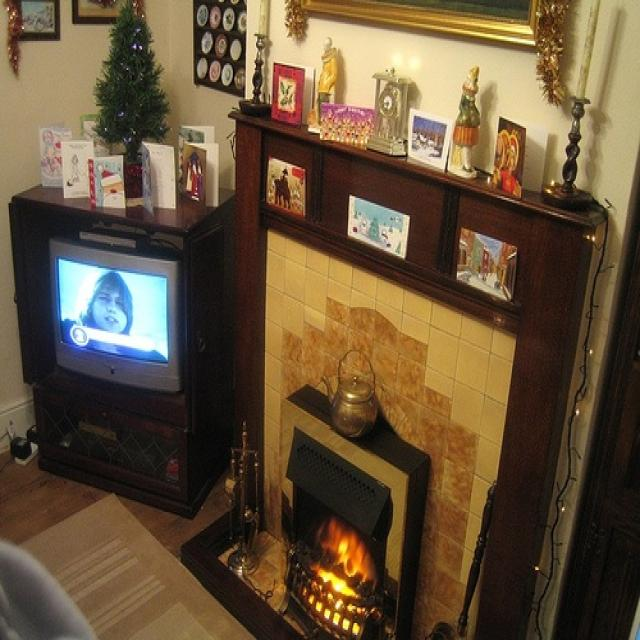tvmonitor: (45, 234, 182, 398)
